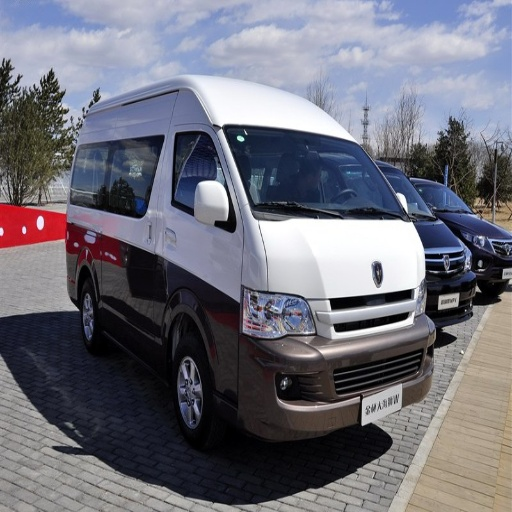front_bumper: (217, 279, 436, 439)
front_glass: (226, 128, 416, 218)
front_right_door: (153, 91, 242, 297), (135, 248, 162, 337)
front_right_light: (243, 292, 315, 339)
trunk: (44, 215, 99, 280)
